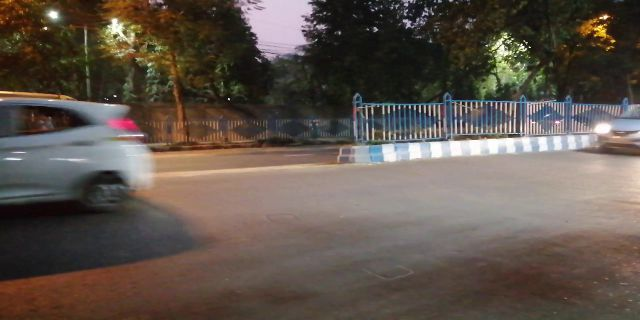Car: (5, 98, 156, 207)
